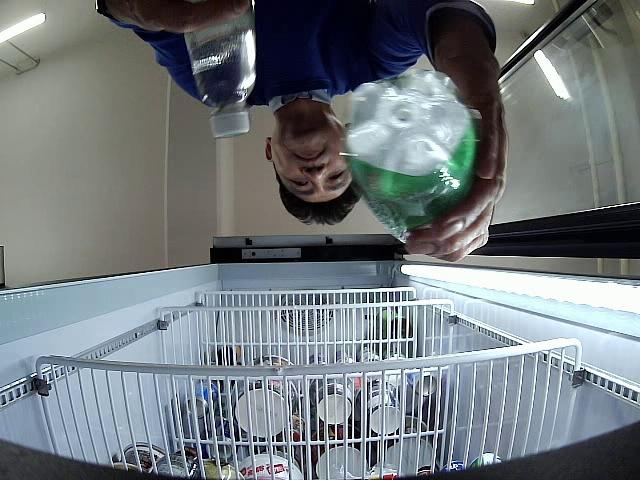00_hand: (406, 54, 507, 262)
18_trevi: (347, 72, 482, 245), (185, 12, 256, 139)
